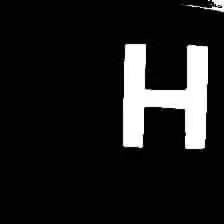LTR_H: (100, 23, 219, 163)
